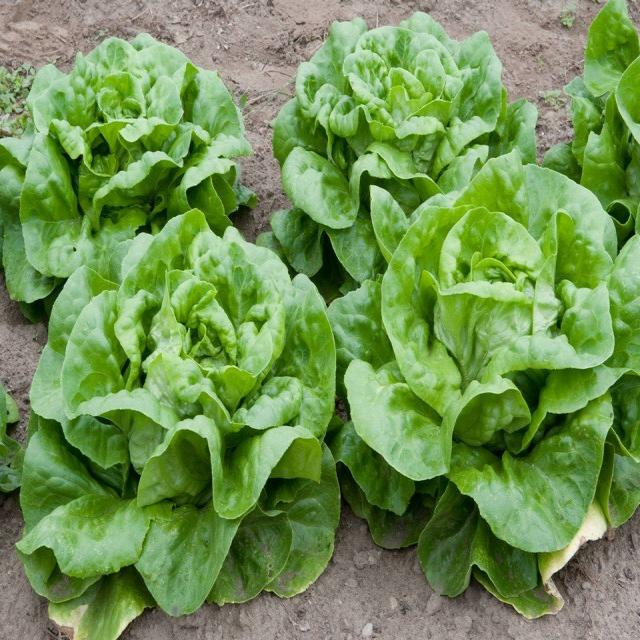lettuce: (344, 180, 640, 612), (28, 228, 330, 610), (0, 31, 239, 241), (281, 20, 501, 218)
